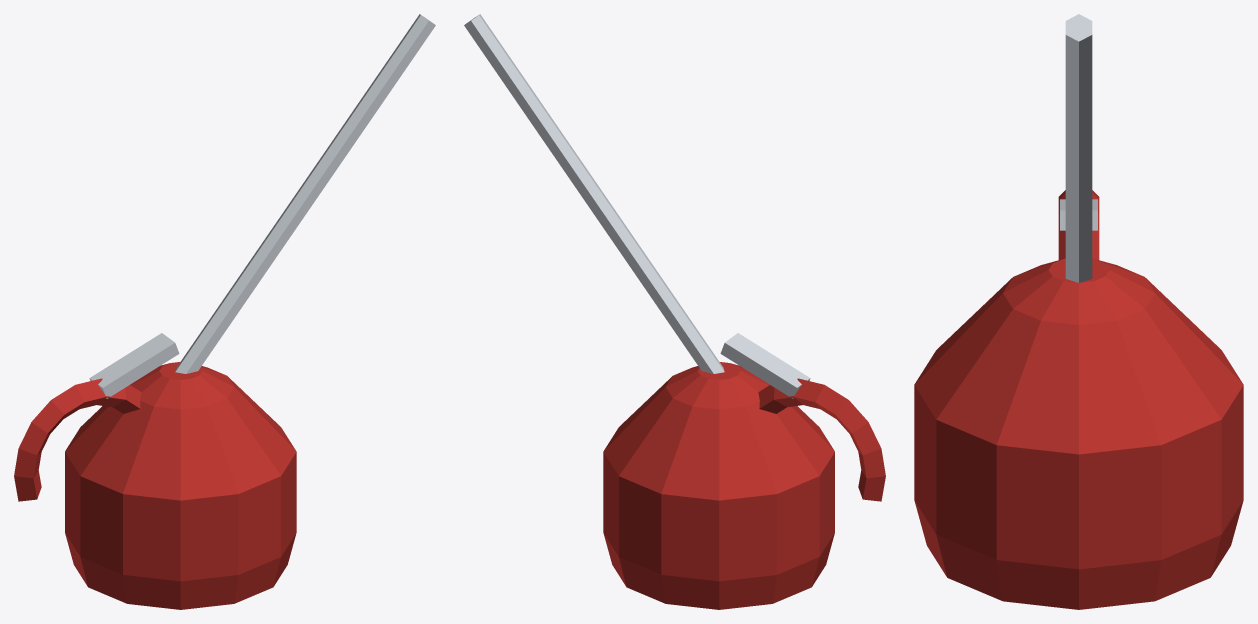
Rendered from Oil_Can.fbx.
3 renders of one model, left to right at view 1: azimuth 30°, elevation 25°; view 2: azimuth 150°, elevation 25°; view 3: azimuth 270°, elevation 25°, orthographic. The views are drawn at different scales.
Parts seen in each view (by area): view 1: Oil_Can; view 2: Oil_Can; view 3: Oil_Can.
Part boxes in pixels (left/top/right/bottom): Oil_Can: left=14, top=14, right=435, bottom=609; Oil_Can: left=464, top=14, right=885, bottom=609; Oil_Can: left=914, top=14, right=1243, bottom=609.
Size of the model in its own units: 0.2725 by 0.3039 by 0.13.
1 material, 1 textured.
